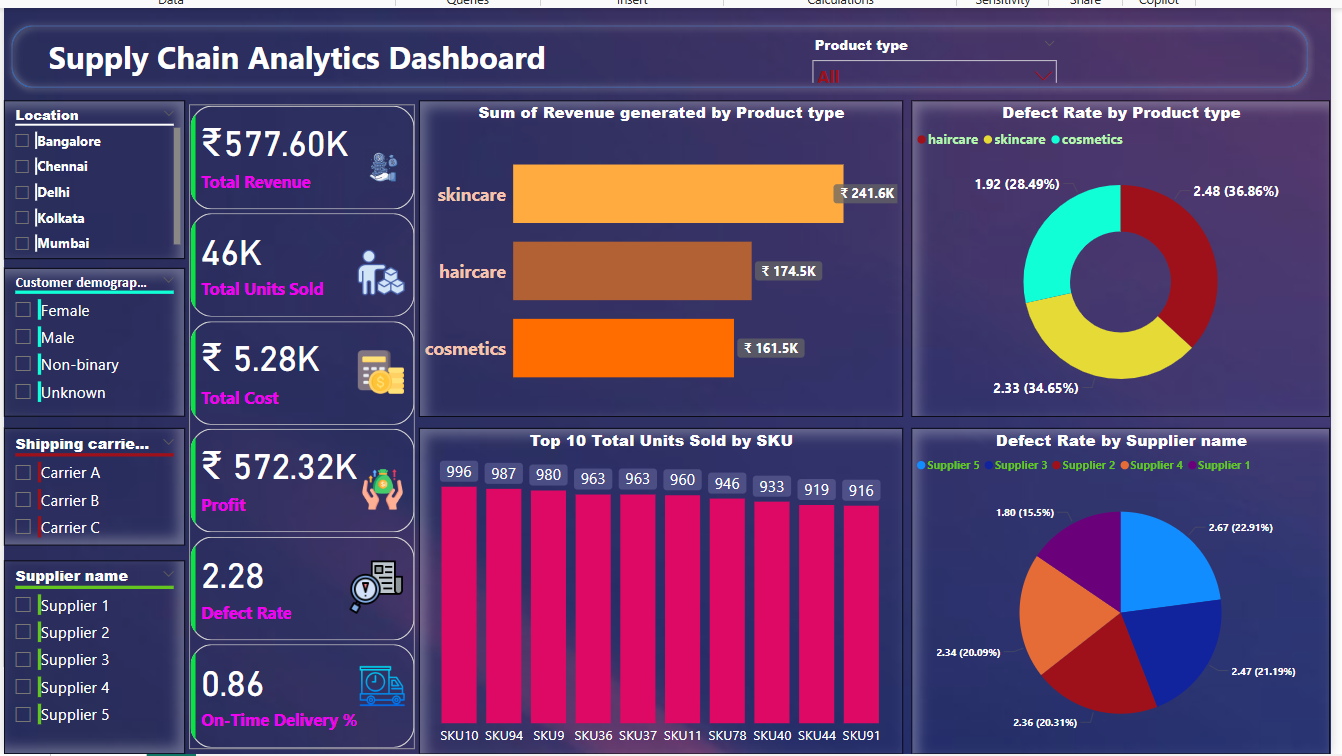

The dashboard page shown, as its layout file describes it:
{"tool":"powerbi","page":{"name":"Page 1","canvas":[1600,900],"ordinal":0},"visuals":[{"type":"cardVisual","fields":{"Data":["supply_chain_data.Total Revenue","supply_chain_data.Total Units Sold","supply_chain_data.Total Cost","supply_chain_data.Profit","supply_chain_data.Defect Rate","supply_chain_data.On-Time Delivery %"]},"box":[218.7,111.6,282,788.7],"z":0},{"type":"barChart","fields":{"Y":["Sum(supply_chain_data.Revenue generated)"],"Category":["supply_chain_data.Product type"]},"box":[500.7,111.6,583.6,381.5],"z":1000},{"type":"columnChart","title":"Top 10 Total Units Sold by SKU","fields":{"Category":["supply_chain_data.SKU"],"Y":["supply_chain_data.Total Units Sold"]},"box":[500.7,506.7,583.6,393.6],"z":2000},{"type":"donutChart","fields":{"Category":["supply_chain_data.Product type"],"Y":["supply_chain_data.Defect Rate"]},"box":[1094.8,111.6,505.2,381.5],"z":3000},{"type":"pieChart","fields":{"Category":["supply_chain_data.Supplier name"],"Y":["supply_chain_data.Defect Rate"]},"box":[1094.8,506.7,505.2,393.6],"z":4000},{"type":"slicer","fields":{"Values":["supply_chain_data.Location"]},"box":[0,111.6,218.7,191.5],"z":5000},{"type":"slicer","fields":{"Values":["supply_chain_data.Customer demographics"]},"box":[0,313.7,218.7,179.5],"z":6000},{"type":"slicer","fields":{"Values":["supply_chain_data.Shipping carriers"]},"box":[0,506.7,218.7,141.8],"z":7000},{"type":"slicer","fields":{"Values":["supply_chain_data.Supplier name"]},"box":[0,666.6,218.7,233.7],"z":8000},{"type":"shape","box":[0,12.1,1581.9,93],"z":9000},{"type":"textbox","box":[25.6,28.7,656,61.8],"z":10000},{"type":"slicer","fields":{"Values":["supply_chain_data.Product type"]},"box":[965.2,28.7,315.2,61.8],"z":11000}]}

Visuals, with their boxes on the page's 1600x900 design canvas (x1, y1, x2, y2). These are canvas units, not pixel positions in the 1342x756 screenshot, which may show the page scaled, cropped or inside an application window:
cardVisual - supply_chain_data.Total Revenue x supply_chain_data.Total Units Sold: (x1=219, y1=112, x2=501, y2=900)
barChart - Sum(supply_chain_data.Revenue generated) x supply_chain_data.Product type: (x1=501, y1=112, x2=1084, y2=493)
"Top 10 Total Units Sold by SKU" columnChart: (x1=501, y1=507, x2=1084, y2=900)
donutChart - supply_chain_data.Product type x supply_chain_data.Defect Rate: (x1=1095, y1=112, x2=1600, y2=493)
pieChart - supply_chain_data.Supplier name x supply_chain_data.Defect Rate: (x1=1095, y1=507, x2=1600, y2=900)
slicer - supply_chain_data.Location: (x1=0, y1=112, x2=219, y2=303)
slicer - supply_chain_data.Customer demographics: (x1=0, y1=314, x2=219, y2=493)
slicer - supply_chain_data.Shipping carriers: (x1=0, y1=507, x2=219, y2=648)
slicer - supply_chain_data.Supplier name: (x1=0, y1=667, x2=219, y2=900)
shape: (x1=0, y1=12, x2=1582, y2=105)
textbox: (x1=26, y1=29, x2=682, y2=90)
slicer - supply_chain_data.Product type: (x1=965, y1=29, x2=1280, y2=90)
